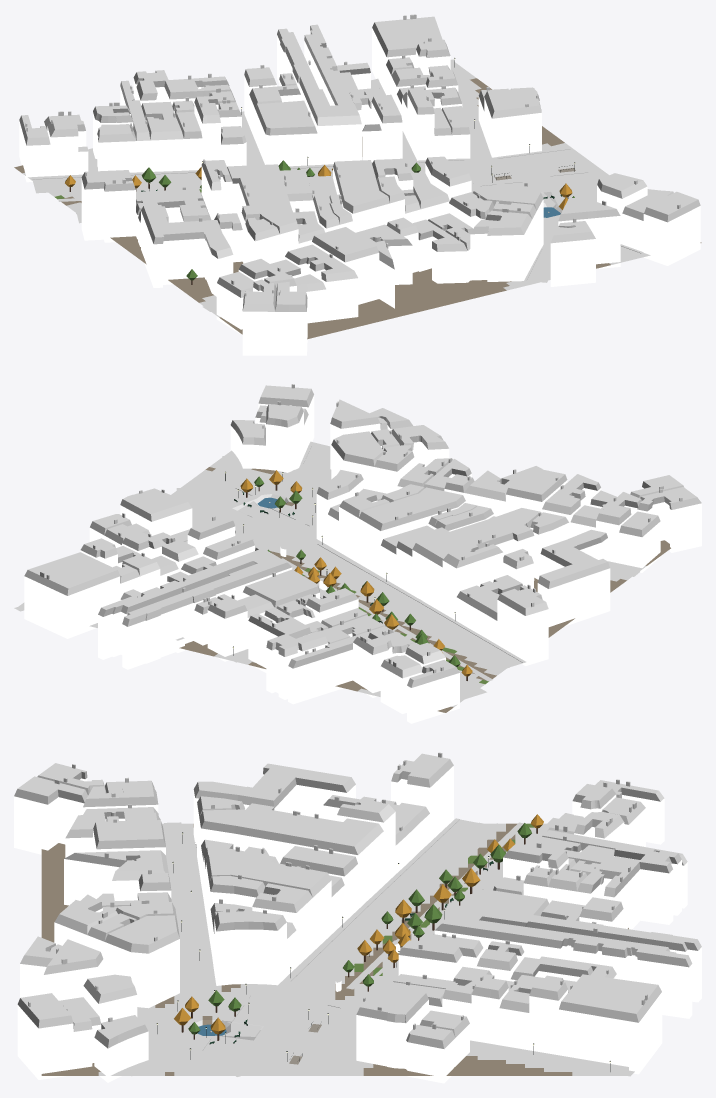
The model's file is zone_C2.glb.
3 renders of one model, top to bottom at view 1: azimuth 30°, elevation 25°; view 2: azimuth 150°, elevation 25°; view 3: azimuth 270°, elevation 25°, orthographic. The views are drawn at different scales.
Visible parts, largest first — view 1: zone_C2_batiments, zone_C2_terrain, zone_C2_sol_NOCOL, zone_C2_decor_NOCOL; view 2: zone_C2_batiments, zone_C2_sol_NOCOL, zone_C2_terrain, zone_C2_decor_NOCOL; view 3: zone_C2_batiments, zone_C2_sol_NOCOL, zone_C2_terrain, zone_C2_decor_NOCOL.
Part boxes in pixels (x1,y1,x2,y2): zone_C2_batiments: (19, 14, 700, 355); zone_C2_terrain: (14, 62, 701, 339); zone_C2_sol_NOCOL: (31, 59, 643, 311); zone_C2_decor_NOCOL: (65, 58, 575, 284); zone_C2_batiments: (24, 384, 701, 723); zone_C2_sol_NOCOL: (14, 445, 639, 700); zone_C2_terrain: (19, 441, 670, 712); zone_C2_decor_NOCOL: (225, 470, 472, 680); zone_C2_batiments: (14, 752, 701, 1083); zone_C2_sol_NOCOL: (122, 817, 634, 1076); zone_C2_terrain: (41, 823, 628, 1075); zone_C2_decor_NOCOL: (156, 814, 610, 1071).
Size of the model in its own units: 198 by 28.18 by 218.
